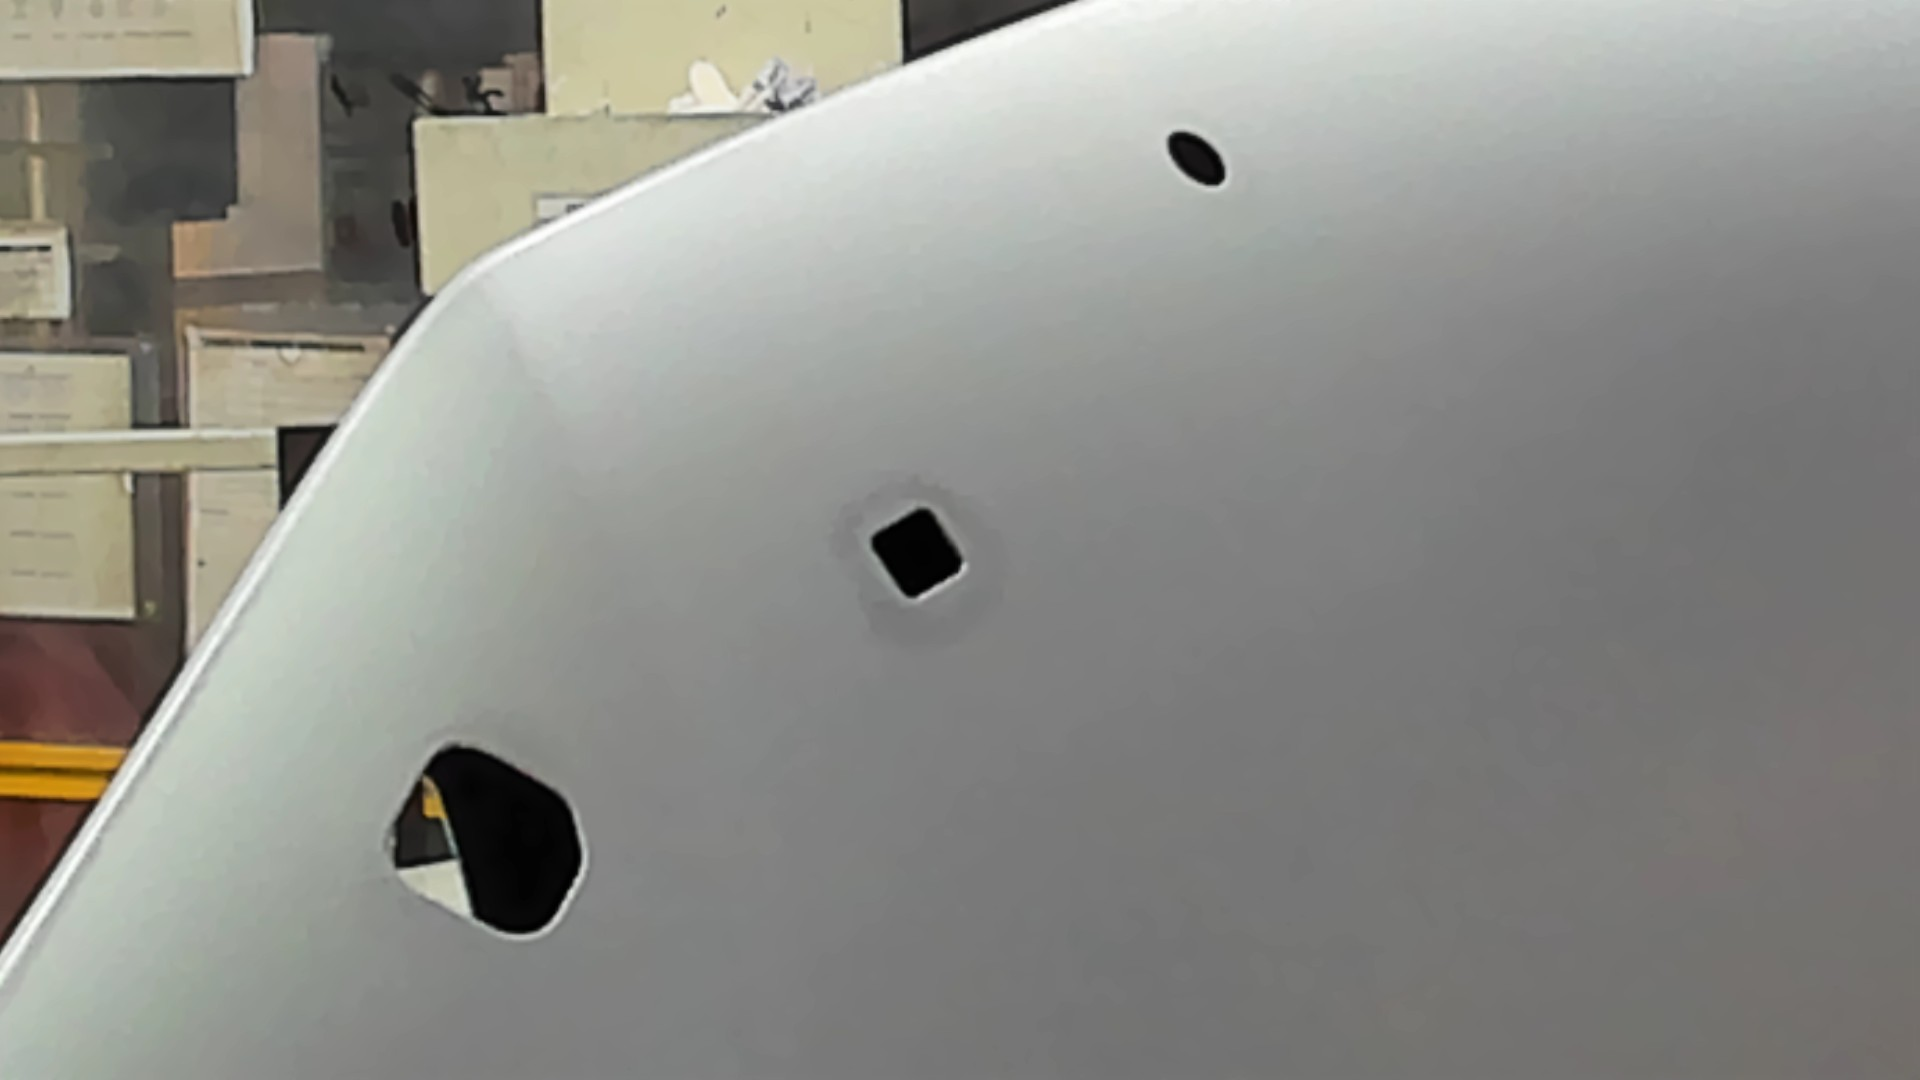chico: (1160, 127, 1232, 195)
grande: (386, 737, 593, 953)
mediano: (865, 504, 969, 608)
